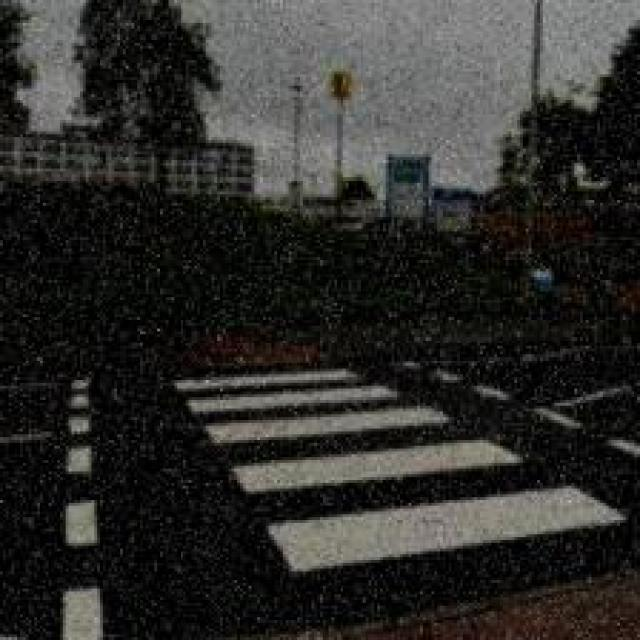crosswalk: (167, 358, 634, 583)
